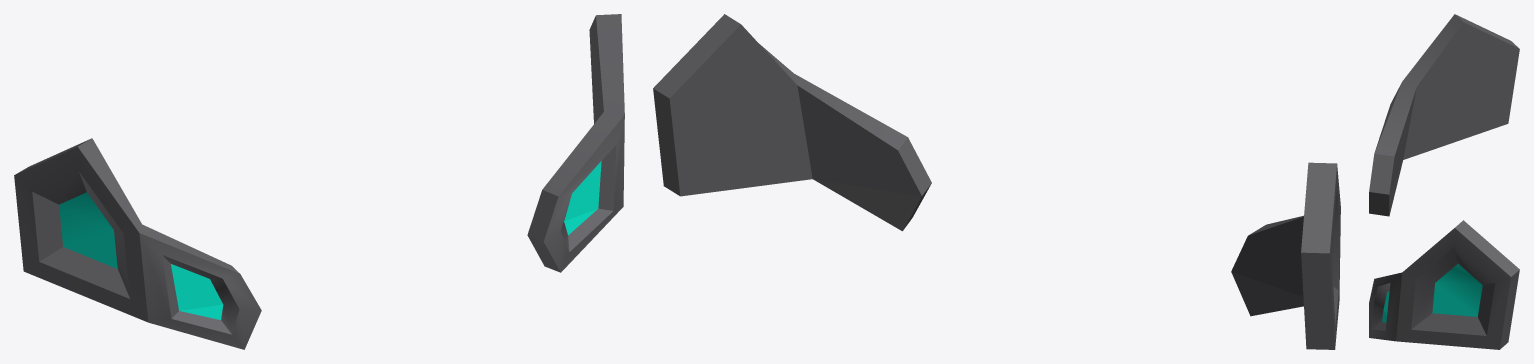
File: SM_Chr_Attach_Cybernetics_Male_03.fbx
3 renders of one model, left to right at view 1: azimuth 30°, elevation 25°; view 2: azimuth 150°, elevation 25°; view 3: azimuth 270°, elevation 25°, orthographic. The views are drawn at different scales.
Visible parts, largest first — view 1: SM_Chr_Attach_Cybernetics_Male_03; view 2: SM_Chr_Attach_Cybernetics_Male_03; view 3: SM_Chr_Attach_Cybernetics_Male_03.
Boxes of the visible parts, x1,y1,x2,y2 form: SM_Chr_Attach_Cybernetics_Male_03: (14,14,624,349); SM_Chr_Attach_Cybernetics_Male_03: (653,14,1340,349); SM_Chr_Attach_Cybernetics_Male_03: (1369,14,1519,349).
Size of the model in its own units: 21.93 by 6.77 by 5.92.
